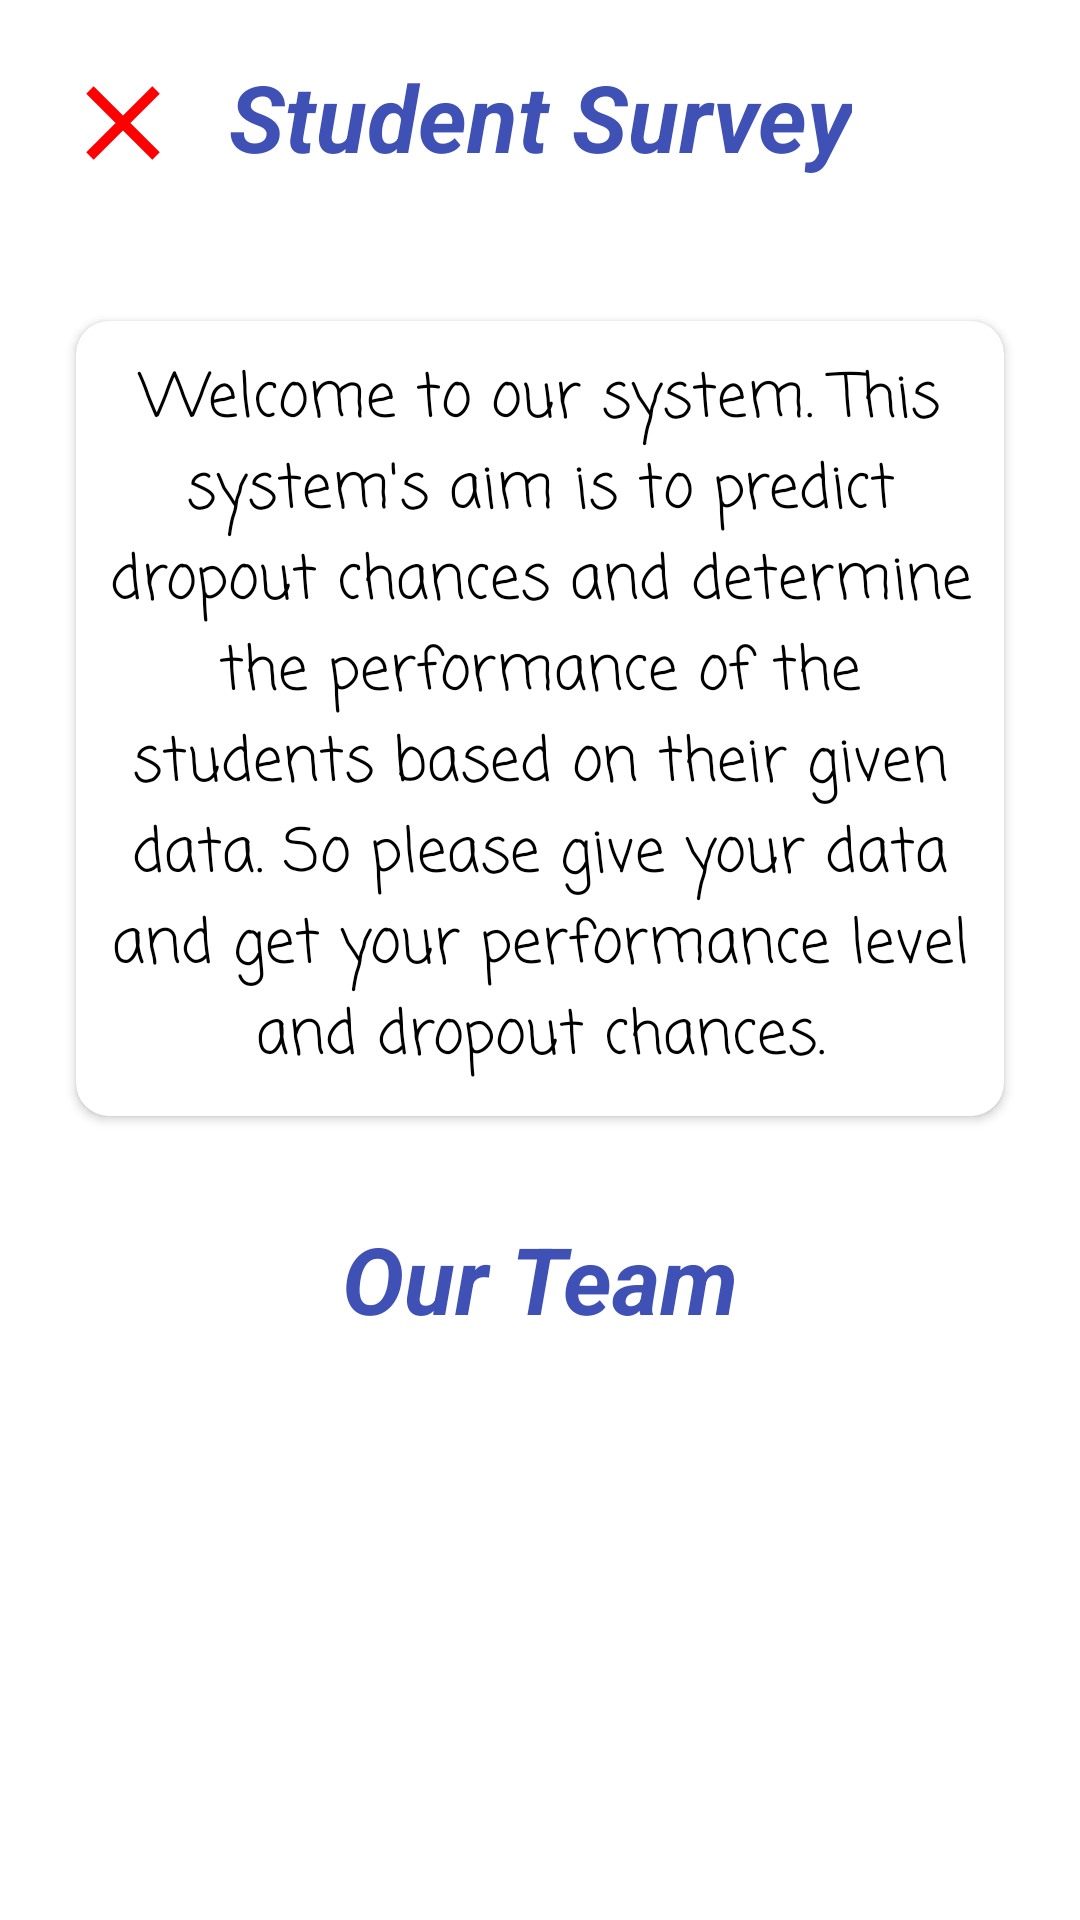

Icons on this 1080px×1920px Android screen, each with the point to tap as (x=x, y=y):
close: (x=123, y=123)
